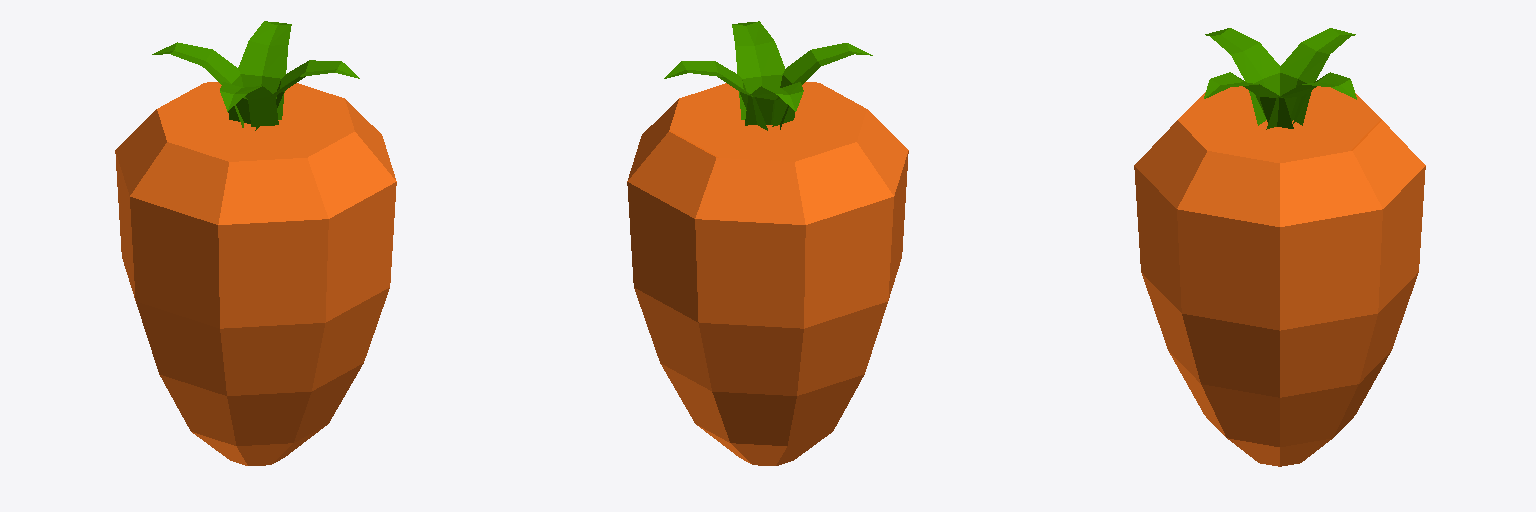
The picture shows the model from 3 angles: view 1: azimuth 30°, elevation 25°; view 2: azimuth 150°, elevation 25°; view 3: azimuth 270°, elevation 25°; orthographic projection.
Visible parts, largest first — view 1: Cube.005_Cube.021; view 2: Cube.005_Cube.021; view 3: Cube.005_Cube.021.
Boxes of the visible parts, x1=… form: Cube.005_Cube.021: x1=115, y1=21, x2=396, y2=465; Cube.005_Cube.021: x1=627, y1=21, x2=908, y2=465; Cube.005_Cube.021: x1=1134, y1=28, x2=1425, y2=466.
Size of the model in its own units: 0.9075 by 1.36 by 0.9075.
Materials: 2 (1 with a texture image).